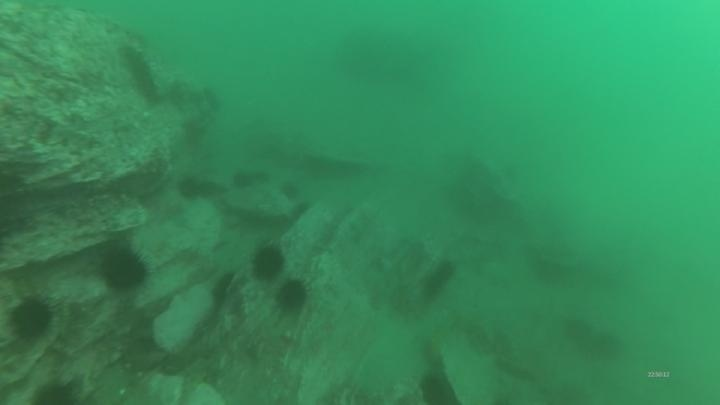echinus: (97, 244, 151, 294), (7, 294, 56, 343), (419, 257, 458, 301), (249, 241, 288, 283), (584, 326, 625, 362), (273, 277, 311, 315), (416, 370, 457, 405), (29, 377, 82, 404), (207, 269, 238, 310), (560, 315, 595, 347), (175, 173, 211, 203), (229, 168, 257, 193), (278, 179, 303, 203)
holothurian: (313, 377, 379, 405)
